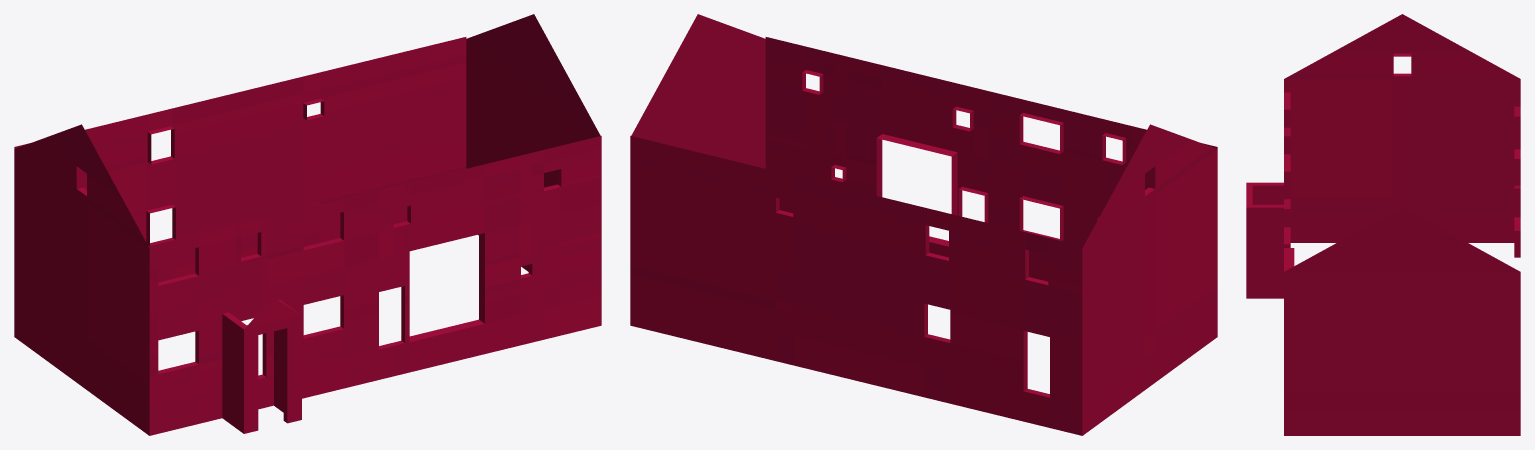
The model's file is SM_Bld_009_Masonry.glb.
3 renders of one model, left to right at view 1: azimuth 30°, elevation 25°; view 2: azimuth 150°, elevation 25°; view 3: azimuth 270°, elevation 25°, orthographic. The views are drawn at different scales.
Visible parts, largest first — view 1: SM_Bld_009_Masonry; view 2: SM_Bld_009_Masonry; view 3: SM_Bld_009_Masonry.
Boxes of the visible parts, x1,y1,x2,y2 form: SM_Bld_009_Masonry: [14, 14, 601, 435]; SM_Bld_009_Masonry: [630, 14, 1217, 435]; SM_Bld_009_Masonry: [1246, 14, 1520, 435].
Size of the model in its own units: 15.63 by 8.65 by 9.4.
